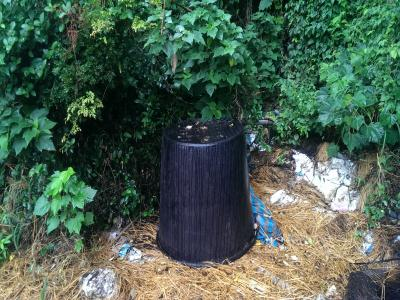bucket: (152, 116, 259, 270)
